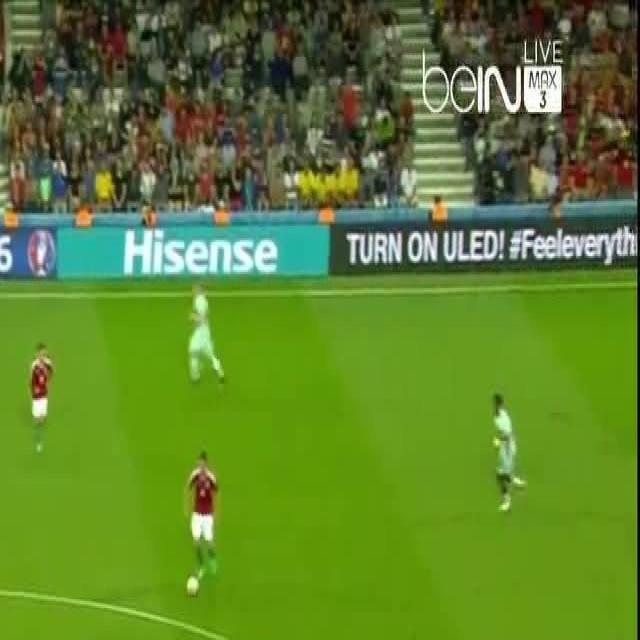ball: (187, 570, 200, 600)
player-white: (185, 452, 220, 580), (491, 391, 527, 515), (188, 281, 226, 387), (29, 342, 52, 452)
